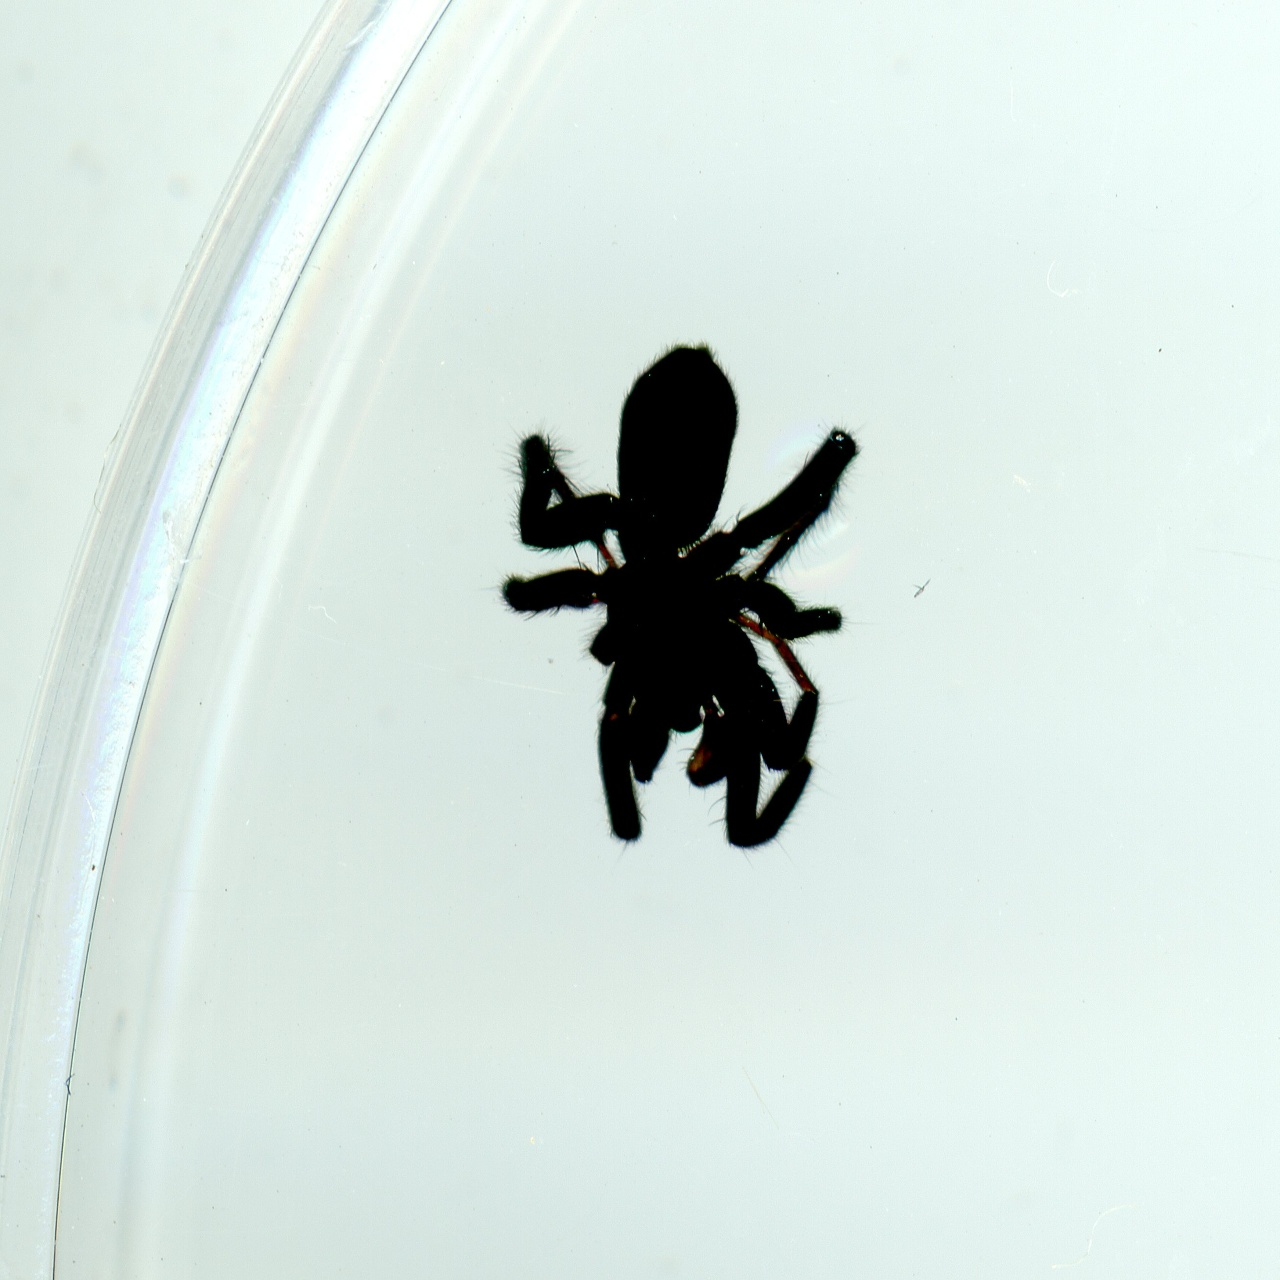arthropod: (463, 317, 895, 880)
